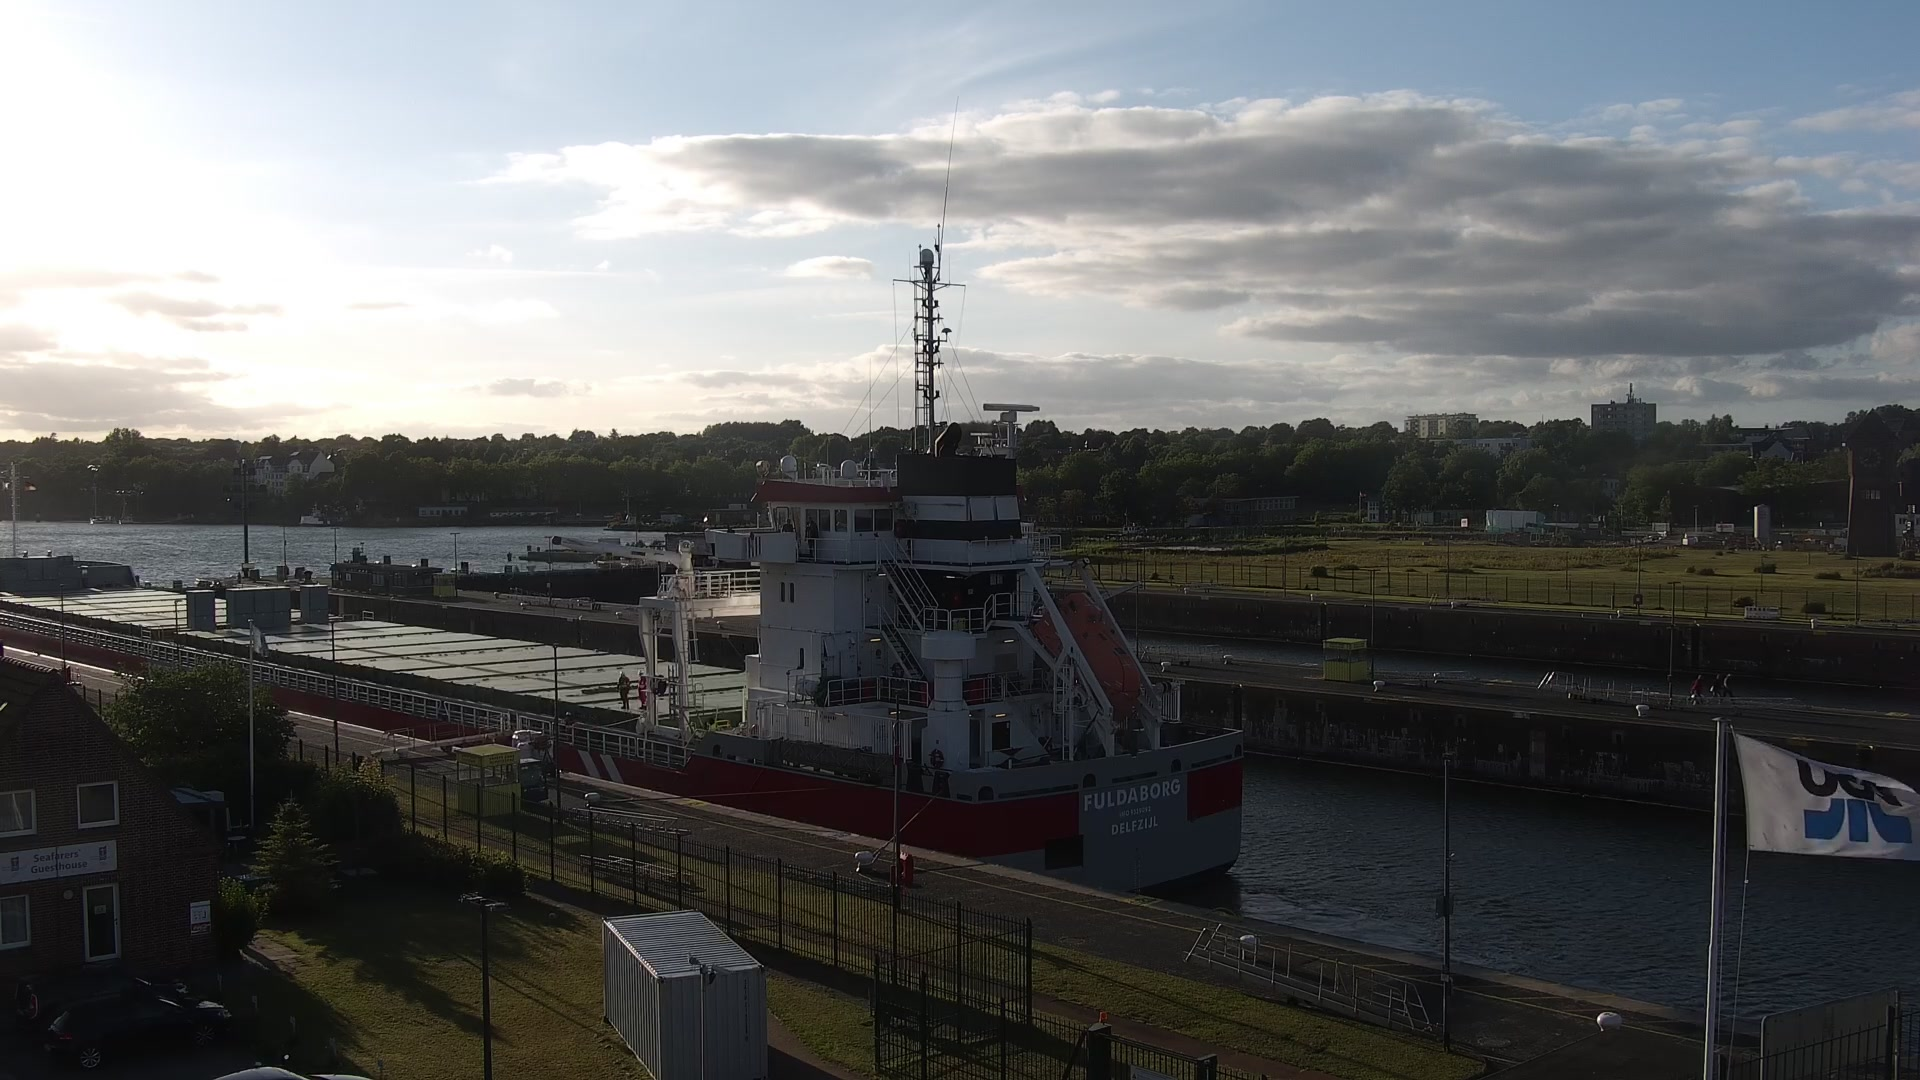human: (804, 514, 819, 559), (616, 670, 630, 709), (1688, 671, 1702, 705), (636, 668, 647, 710), (1707, 672, 1723, 698), (1722, 671, 1734, 701), (782, 516, 795, 532)
land: (40, 989, 231, 1069), (12, 961, 188, 1035), (211, 1064, 372, 1080)
sea: (1, 92, 1243, 895)
